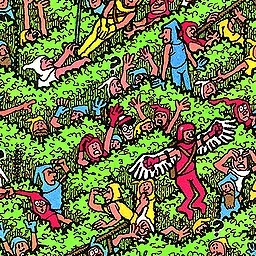waldo: (118, 113, 137, 143)
